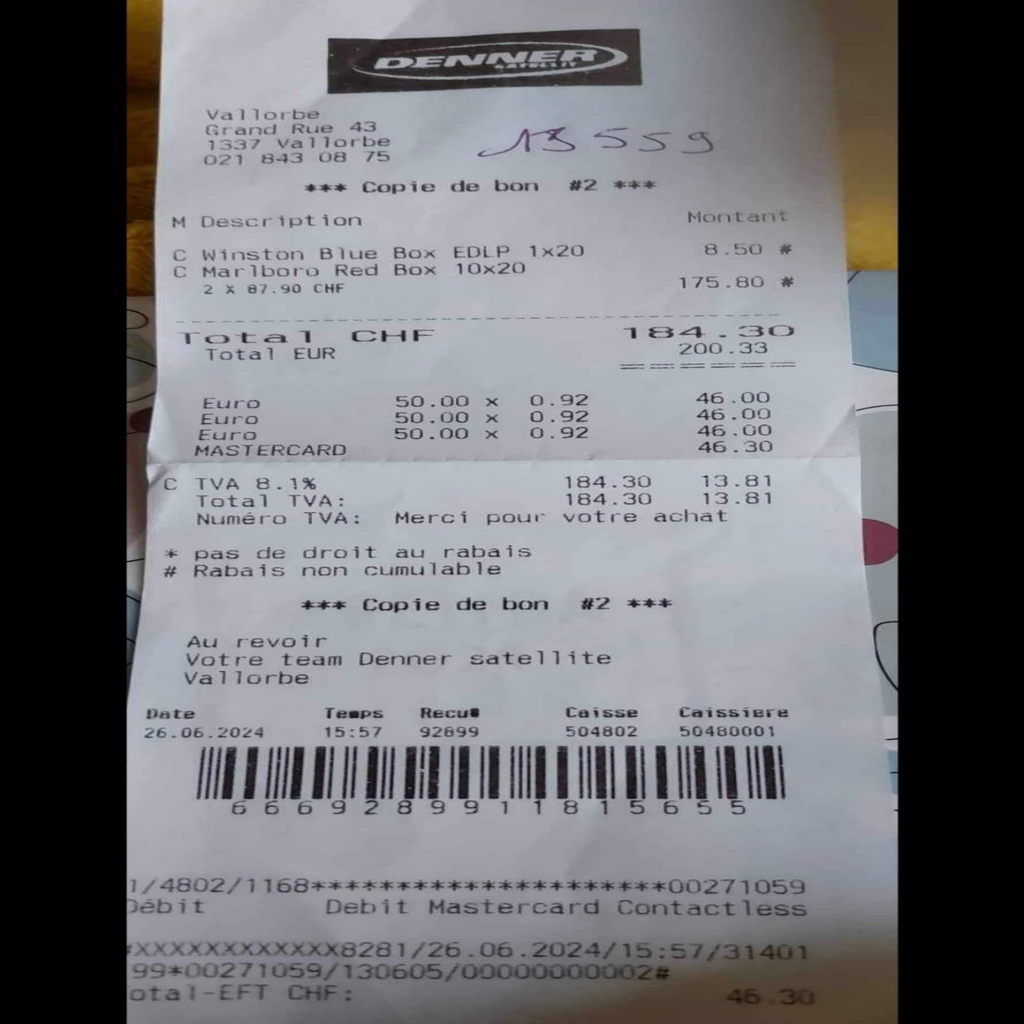recipt: (126, 0, 896, 1009)
